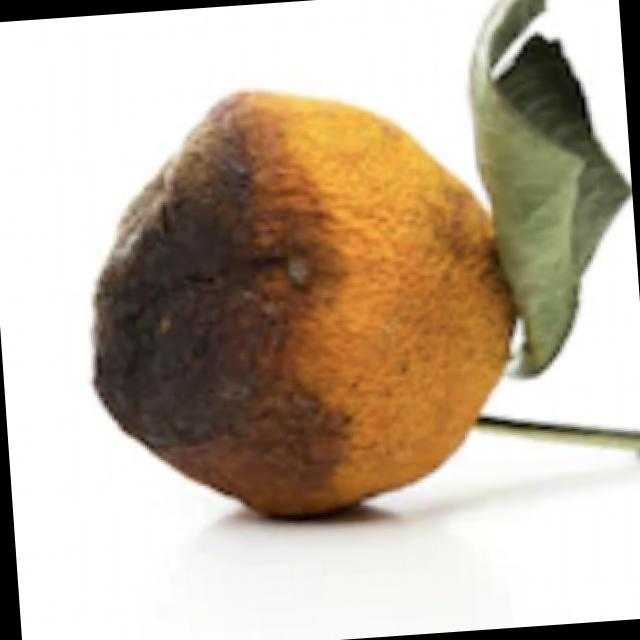rotten-orange: (70, 70, 552, 532)
